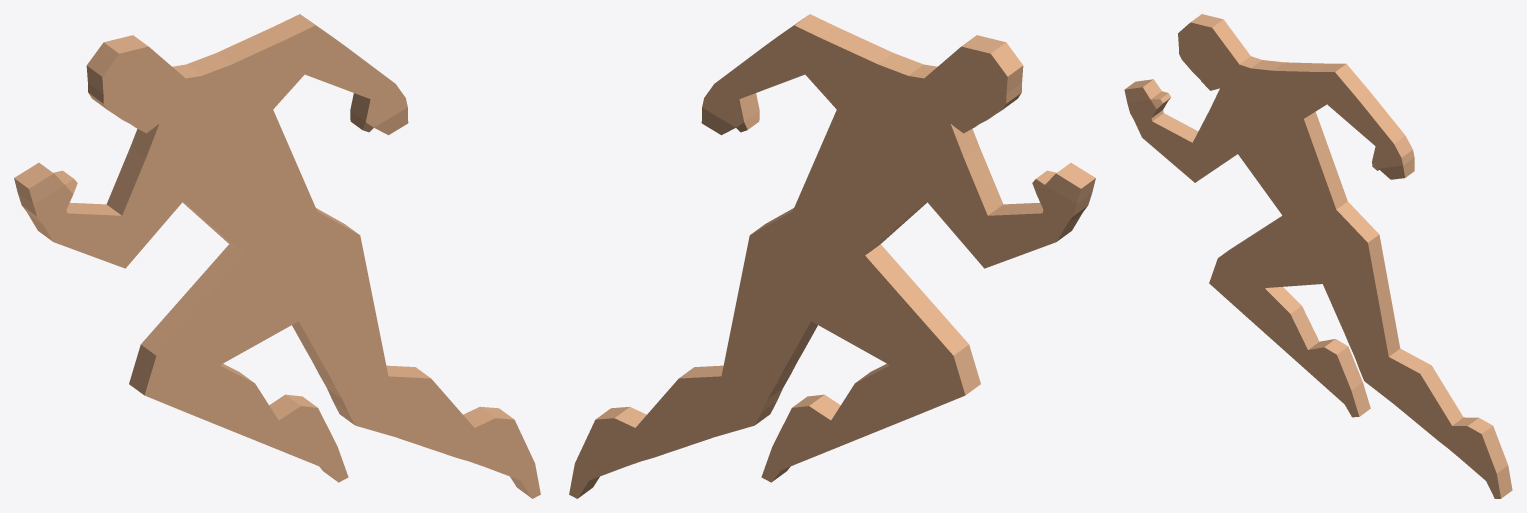
The model's file is speed.glb.
3 renders of one model, left to right at view 1: azimuth 30°, elevation 25°; view 2: azimuth 150°, elevation 25°; view 3: azimuth 330°, elevation 25°, orthographic. The views are drawn at different scales.
Parts seen in each view (by area): view 1: Plane; view 2: Plane; view 3: Plane.
Boxes of the visible parts, x1,y1,x2,y2 form: Plane: (14,14,540,498); Plane: (569,14,1095,498); Plane: (1124,14,1512,498).
Size of the model in its own units: 2.82 by 2.88 by 0.1493.
